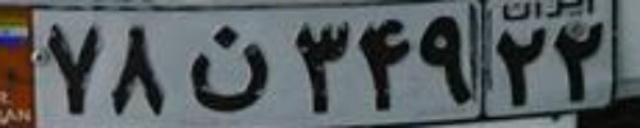2: (552, 21, 602, 102), (497, 26, 546, 107)
3: (292, 19, 352, 113)
4: (357, 19, 410, 111)
7: (44, 20, 100, 115)
8: (105, 23, 168, 116)
9: (415, 13, 472, 104)
non: (188, 24, 266, 110)
